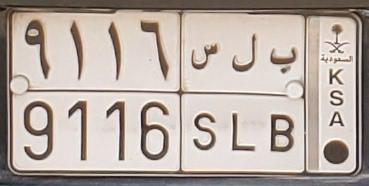1: (66, 20, 89, 163), (106, 21, 126, 163)
6: (138, 19, 171, 161)
9: (23, 18, 54, 162)
B: (269, 45, 296, 153)
L: (231, 33, 258, 152)
S: (190, 43, 219, 151)
